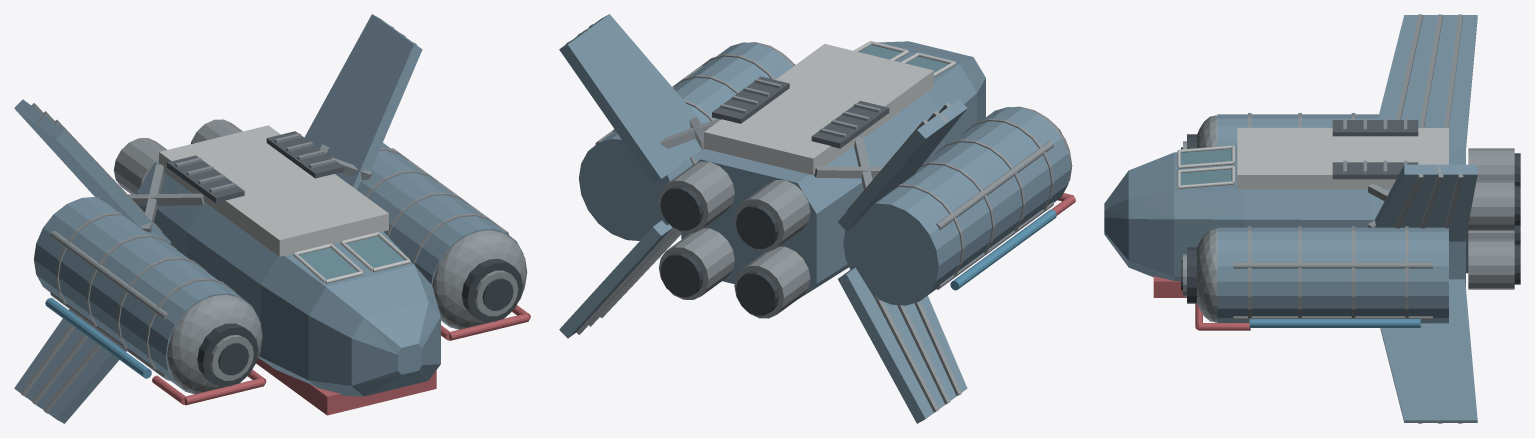
Rendered from earp_blue_off.glb.
3 views of the same model, side by side, from view 1: azimuth 30°, elevation 25°; view 2: azimuth 150°, elevation 25°; view 3: azimuth 270°, elevation 25° (orthographic). The views are drawn at different scales.
Parts seen in each view (by area): view 1: material_0, material_4, material_2, material_1, material_5, material_7, material_3, material_6; view 2: material_0, material_4, material_2, material_5, material_7, material_6, material_3; view 3: material_0, material_4, material_2, material_7, material_5, material_6, material_3, material_1.
Part boxes in pixels (x1,y1,x2,y2): material_0: (14,14,523,423); material_4: (20,26,527,413); material_2: (159,125,410,283); material_1: (152,305,530,415); material_5: (197,259,522,386); material_7: (167,131,344,203); material_3: (299,236,404,279); material_6: (45,298,151,378); material_0: (559,14,1070,423); material_4: (566,24,1072,412); material_2: (704,41,955,175); material_5: (660,64,1061,315); material_7: (712,76,889,148); material_6: (950,209,1056,290); material_3: (859,45,948,72); material_0: (1104,15,1477,422); material_4: (1183,14,1514,423); material_2: (1177,128,1448,189); material_7: (1332,120,1418,179); material_5: (1181,134,1520,303); material_6: (1249,319,1420,327); material_3: (1180,149,1231,185); material_1: (1153,276,1250,330).
Size of the model in its own units: 3.75 by 2.87 by 4.13.
